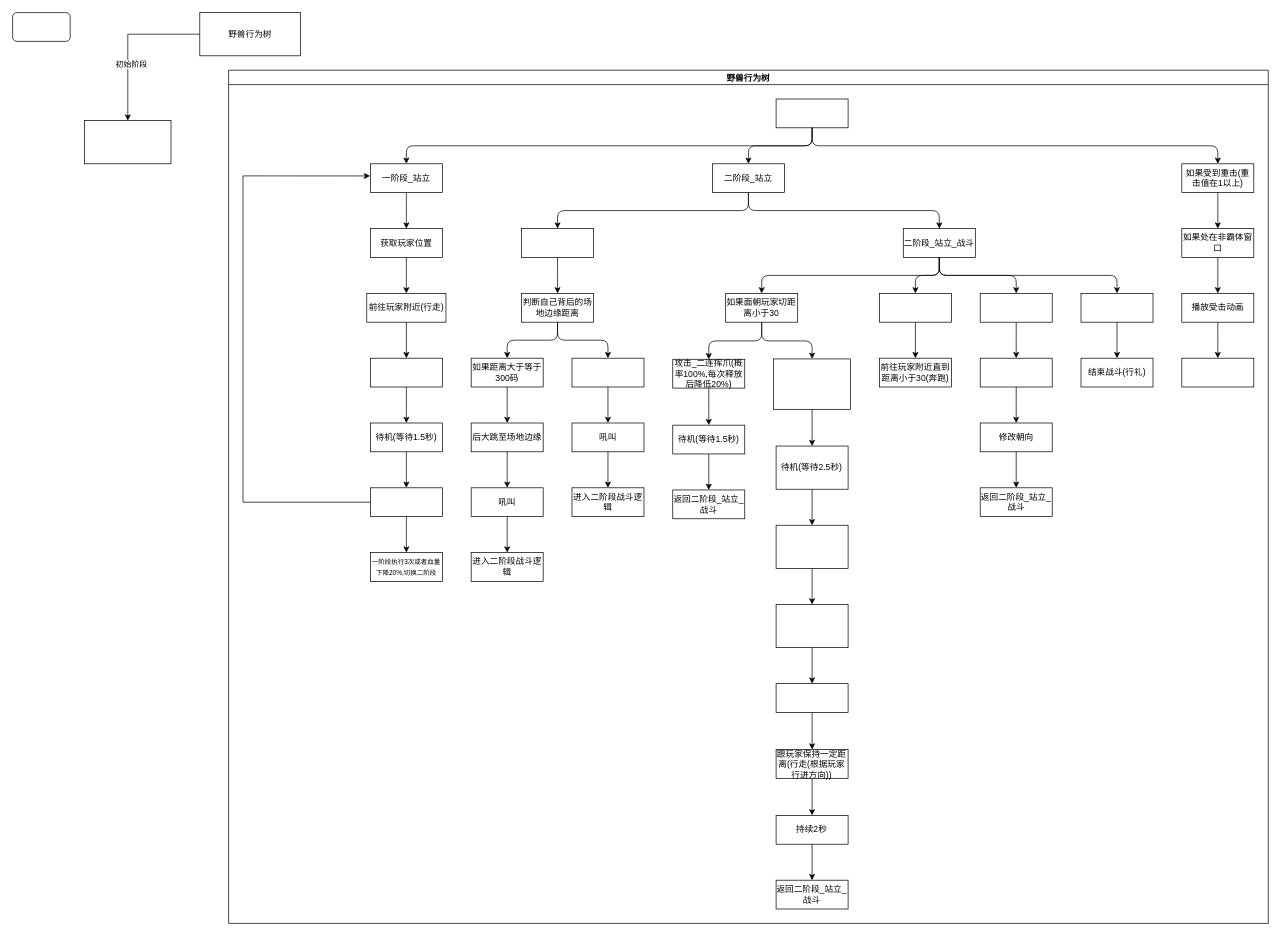
Image size: 1281x936. Some labels were removed from this diagram. Each missing label, with the centre of its shape:
(待机)等待0.2秒: the point at 1015,372
Root: the point at 811,113
一阶段: the point at 127,142
后小跳: the point at 811,697
固定场地BOSS战: the point at 41,26
如果受到玩家攻击: the point at 811,546
如果没有面朝玩家: the point at 1015,307
如果自身血量小于20%: the point at 1116,307
如果距离小于300码: the point at 607,372
如果面朝玩家且距离大于30: the point at 915,307
战斗首次进入二阶段: the point at 557,242
攻击_二连挥爪接下砸(初始概率0%,后续随其他攻击释放增加)(释放后概率归重置): the point at 812,383
攻击_单次挥爪: the point at 406,372
返回上一个阶段: the point at 1217,372
重复一阶段: the point at 406,502
面向玩家(如果朝向不一致): the point at 811,626
